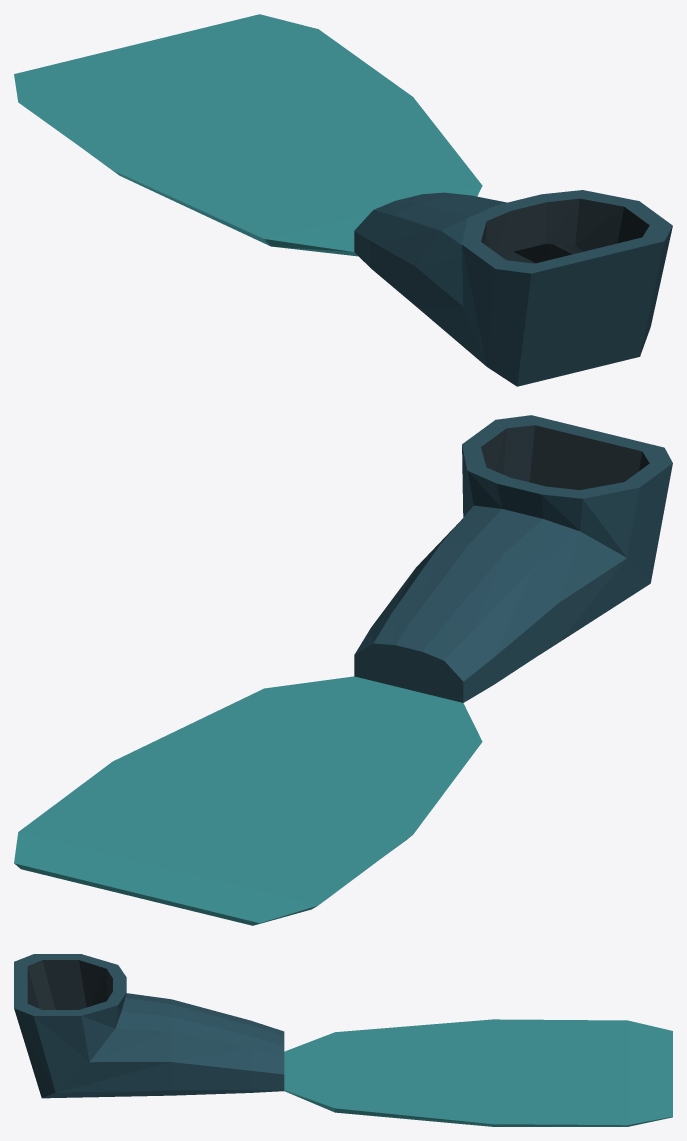
3 views of the same model, one above another, from view 1: azimuth 30°, elevation 25°; view 2: azimuth 150°, elevation 25°; view 3: azimuth 270°, elevation 25° (orthographic). The views are drawn at different scales.
Parts seen in each view (by area): view 1: ContinuousHollowFootPocketAndBroadBlade; view 2: ContinuousHollowFootPocketAndBroadBlade; view 3: ContinuousHollowFootPocketAndBroadBlade.
Boxes of the visible parts, box(x1,y1,x2,y2) form: ContinuousHollowFootPocketAndBroadBlade: box(14, 14, 672, 386); ContinuousHollowFootPocketAndBroadBlade: box(14, 415, 672, 925); ContinuousHollowFootPocketAndBroadBlade: box(14, 954, 672, 1126).
Bounding box in the file's own units: 0.286 × 0.117 × 0.7605.
